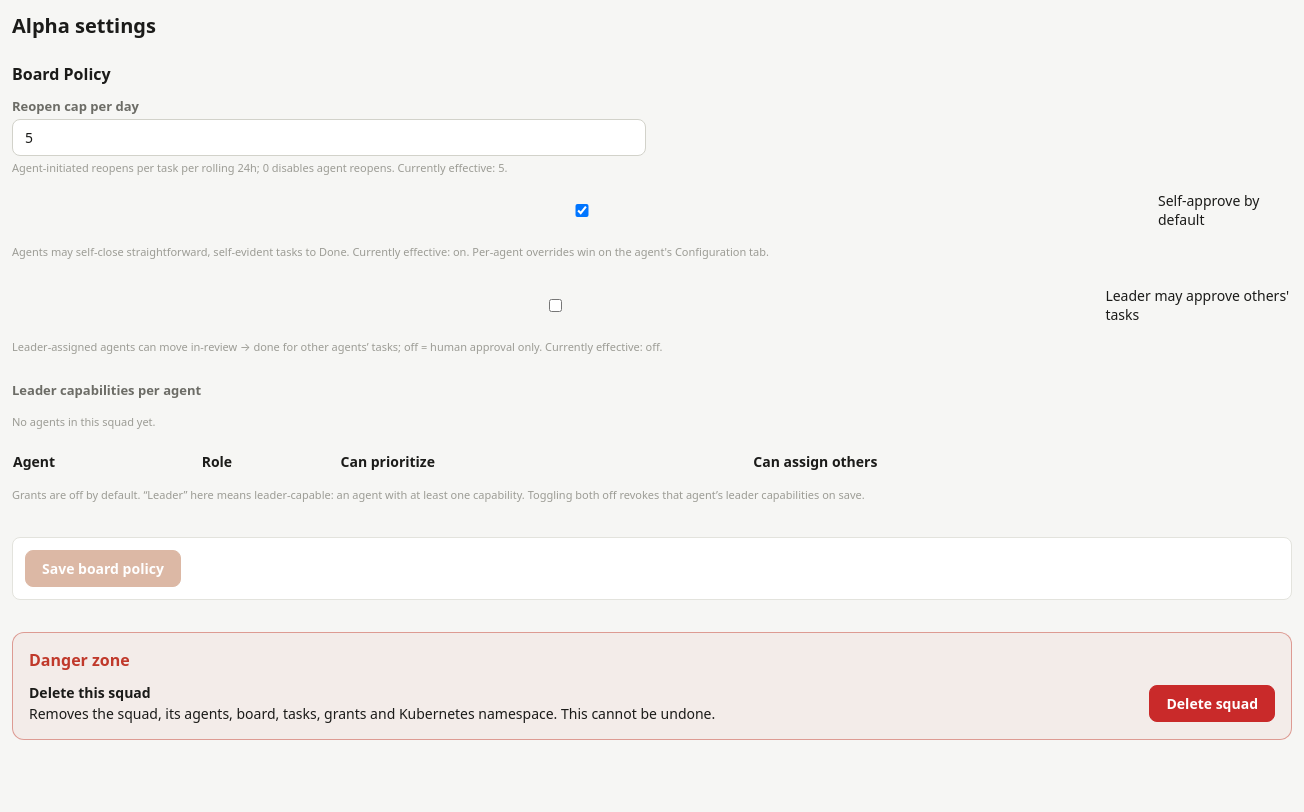
SquadSettingsPage board policy › empty cap disables save with a reason
Clear the field labelled "Reopen cap per day": [329, 138] box [12,119,646,156]
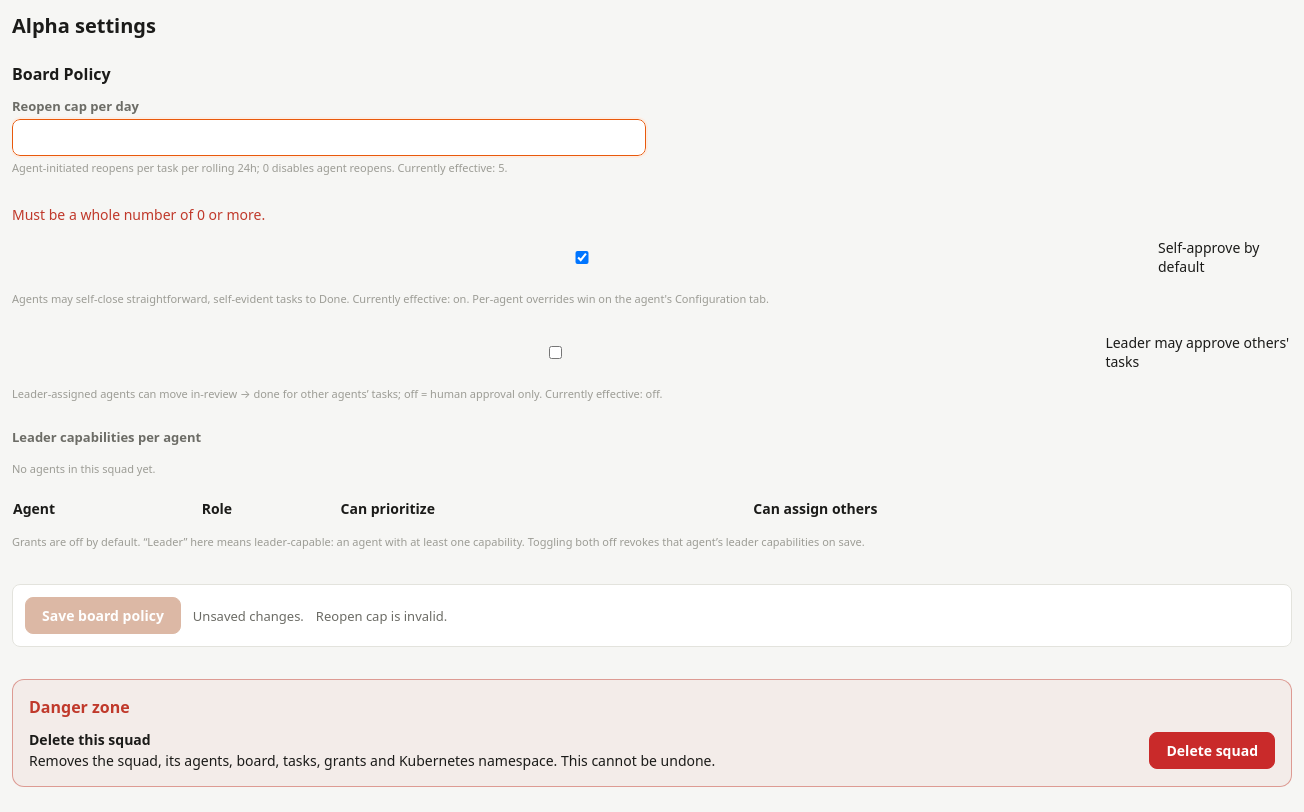
Expected: the button "Save board policy" is disabled, [25,597,181,634]
Result: the text "Reopen cap is invalid." is shown at [316,606,447,624]
